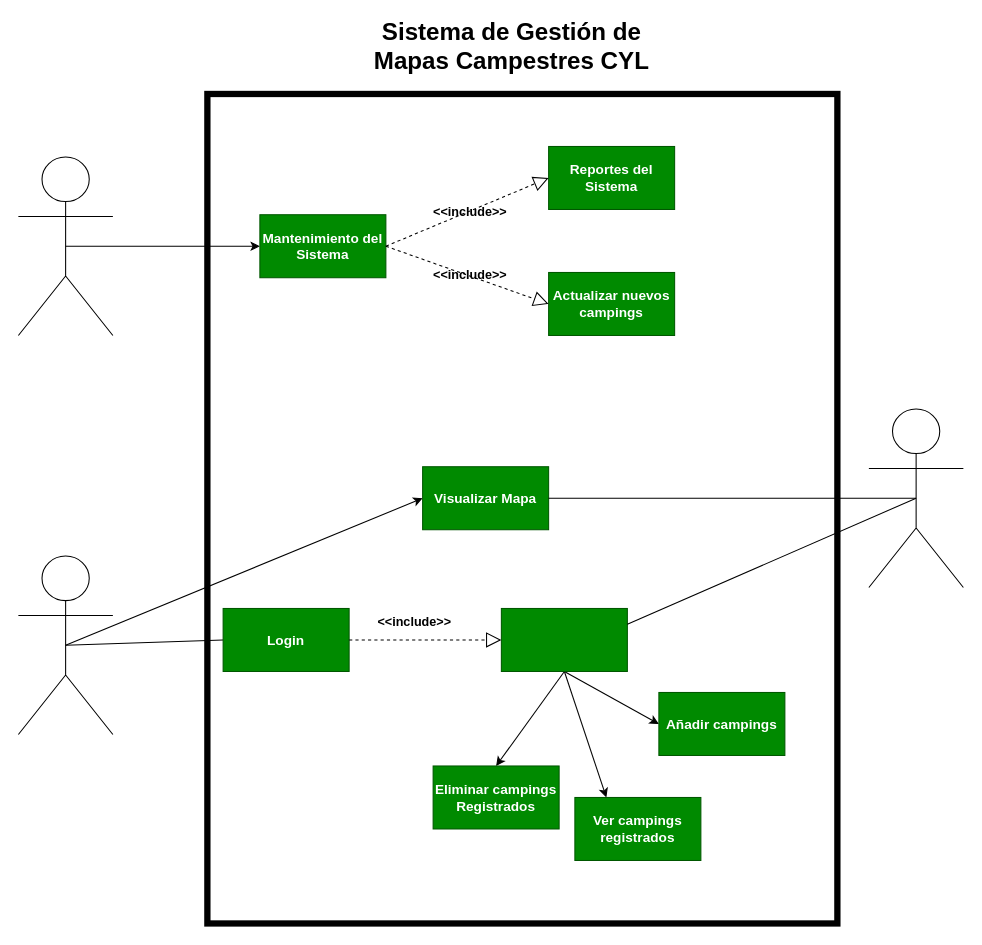
This 982x945 diagram has some shape labels left out. Here are the shapes that lost their labels. From the top down, the box of each, then its label:
(17, 156, 113, 335): Admin
(868, 408, 963, 587): API Campings
(17, 555, 113, 734): Usuario
(500, 607, 627, 671): Gestionar campings
